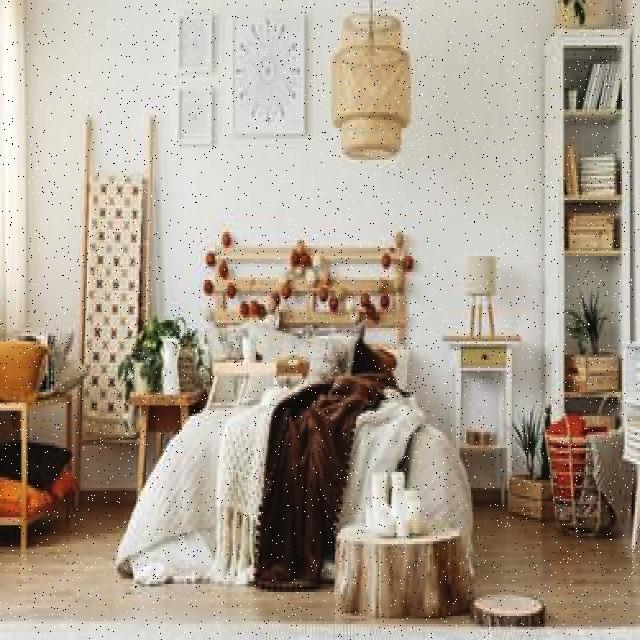bed: (146, 290, 467, 563)
